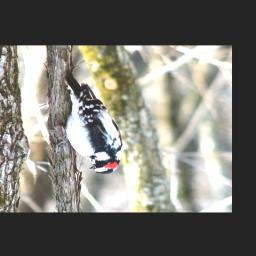Woodpecker: (56, 68, 126, 174)
